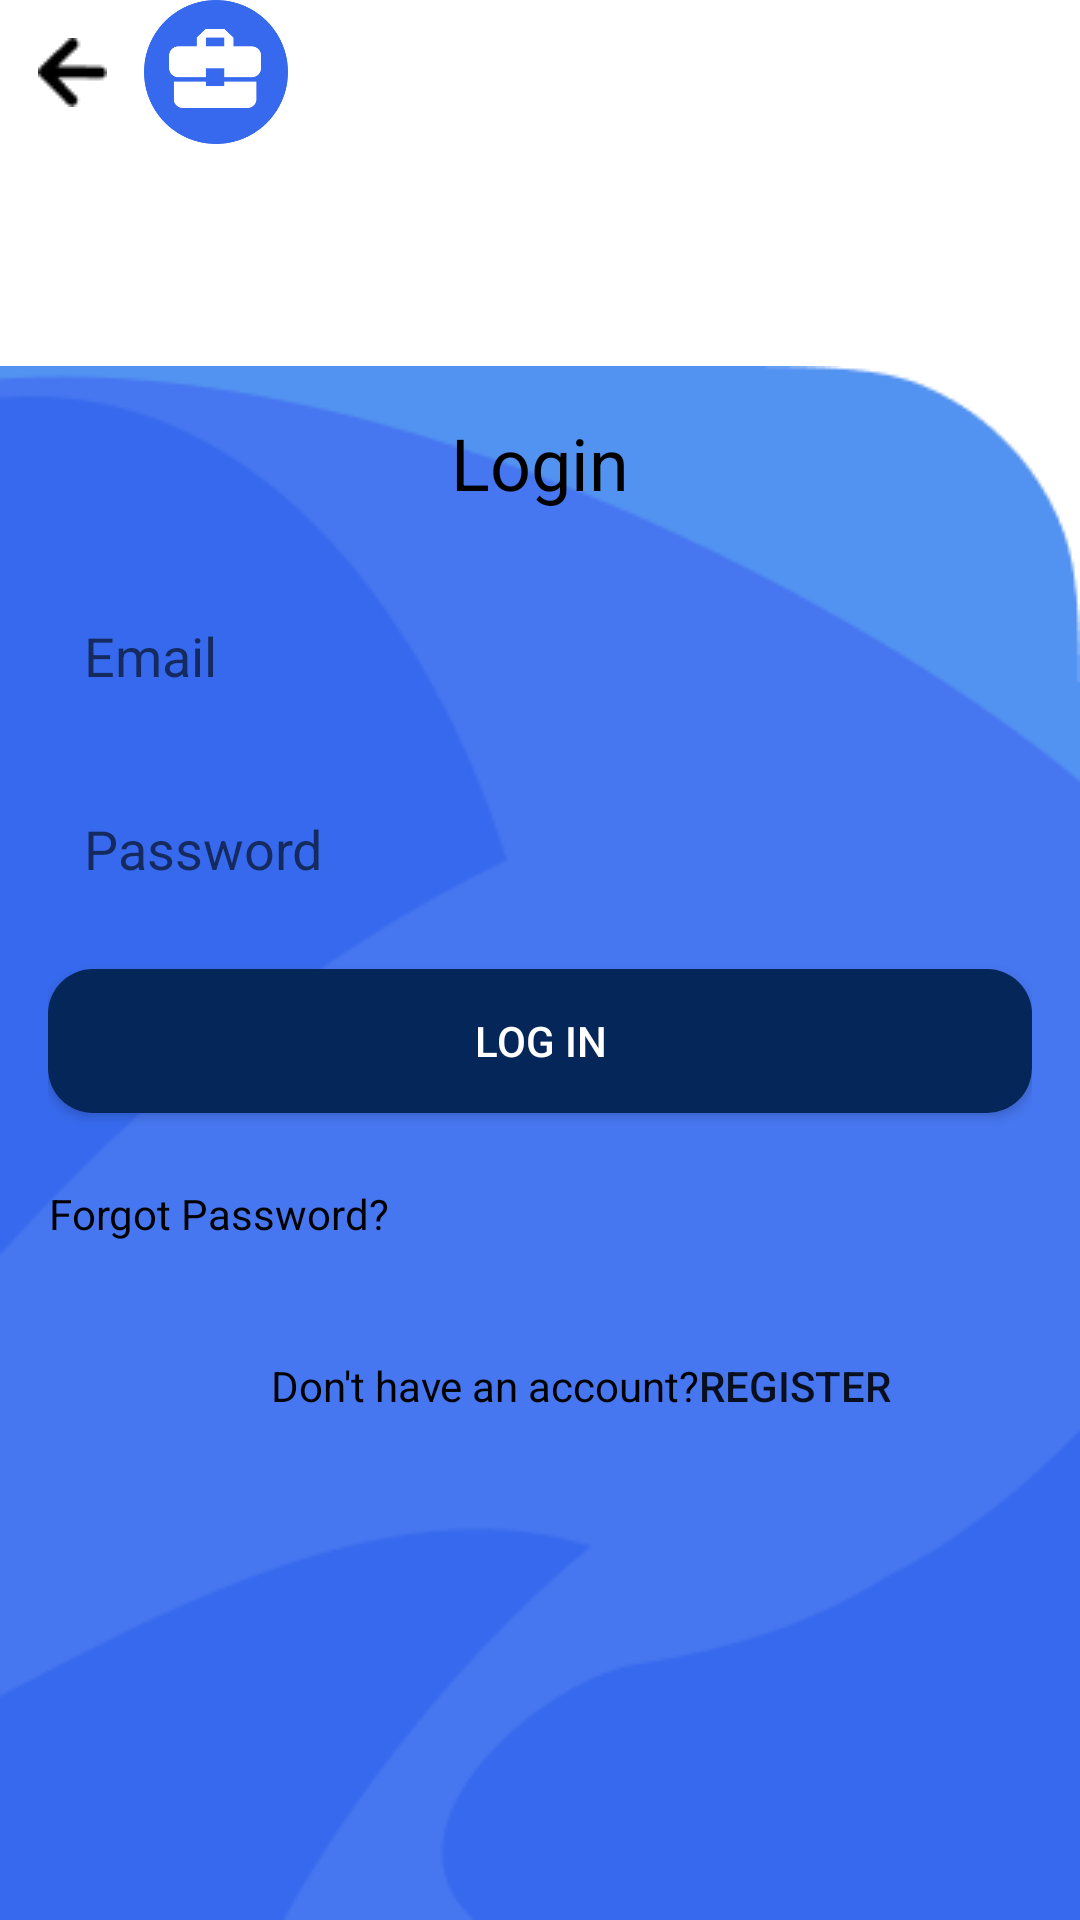

Icons on this 1080*1920 Android screen, each with the point to tap as (x,y):
back arrow: (72,72)
